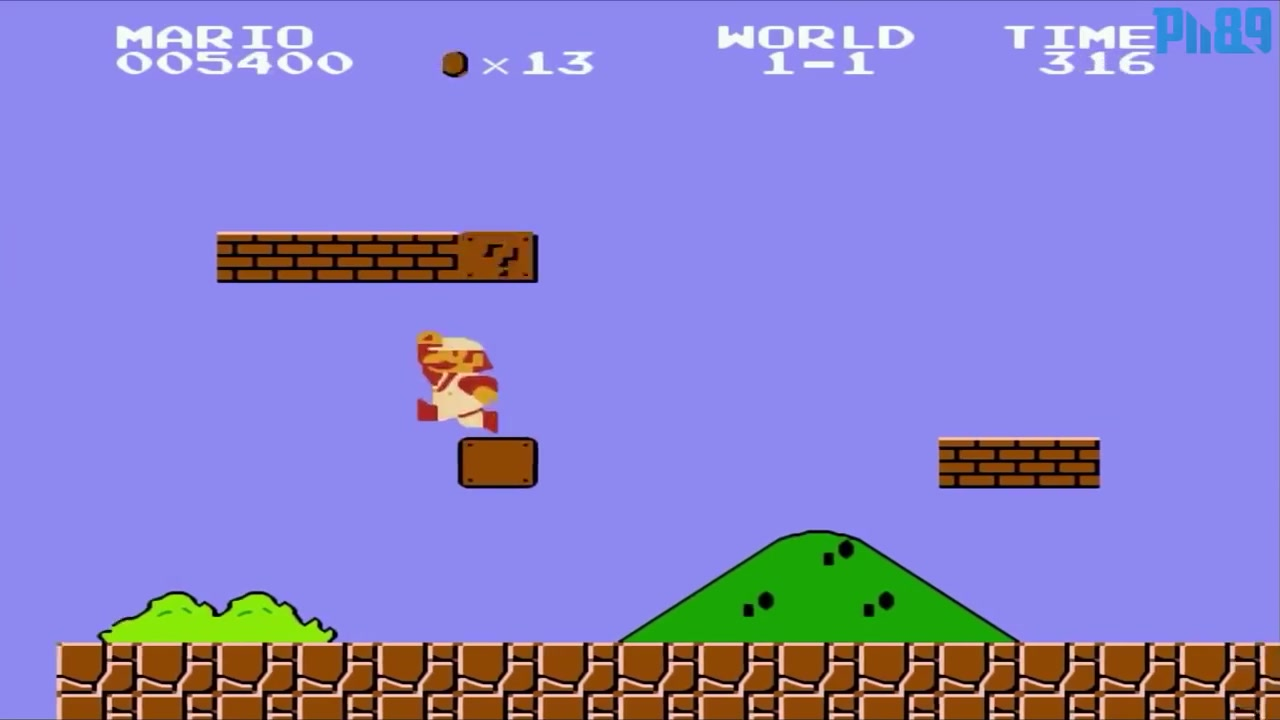mario: (406, 327, 504, 434)
